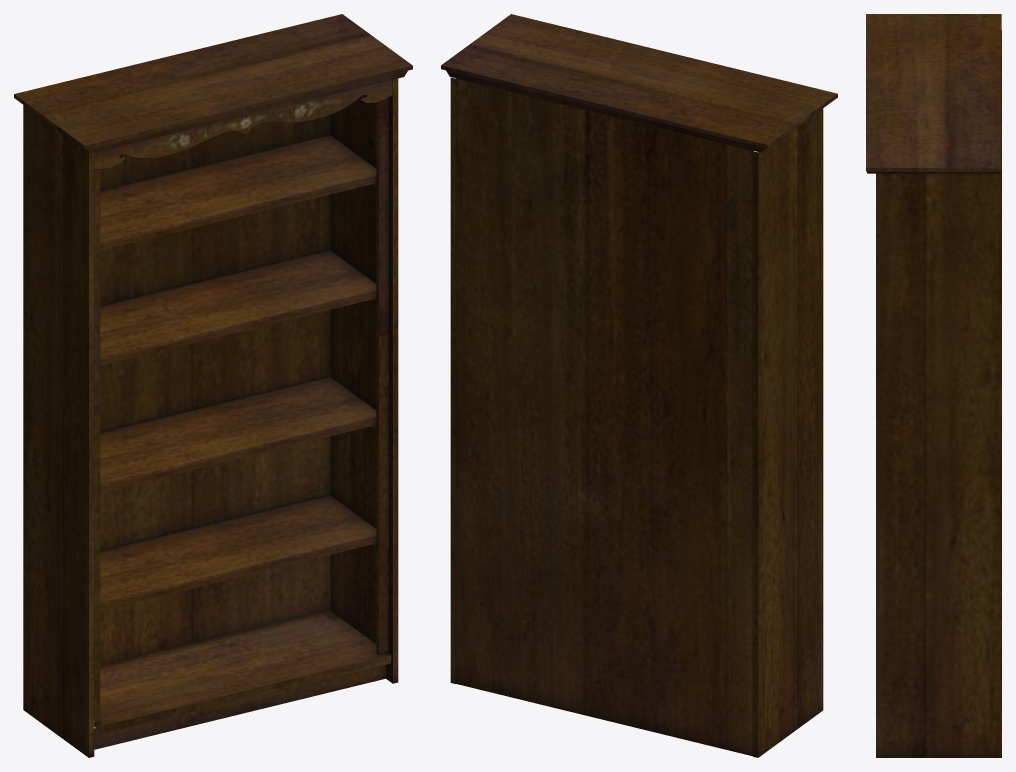
The model's file is si-regal.glb.
3 renders of one model, left to right at view 1: azimuth 30°, elevation 25°; view 2: azimuth 150°, elevation 25°; view 3: azimuth 270°, elevation 25°, orthographic. The views are drawn at different scales.
Visible parts, largest first — view 1: si-regal; view 2: si-regal; view 3: si-regal.
Part boxes in pixels (x1,y1,x2,y2): si-regal: (14, 14, 412, 757); si-regal: (441, 14, 837, 757); si-regal: (866, 14, 1001, 757).
Size of the model in its own units: 0.9184 by 1.65 by 0.342.
Materials: 1 (1 with a texture image).
